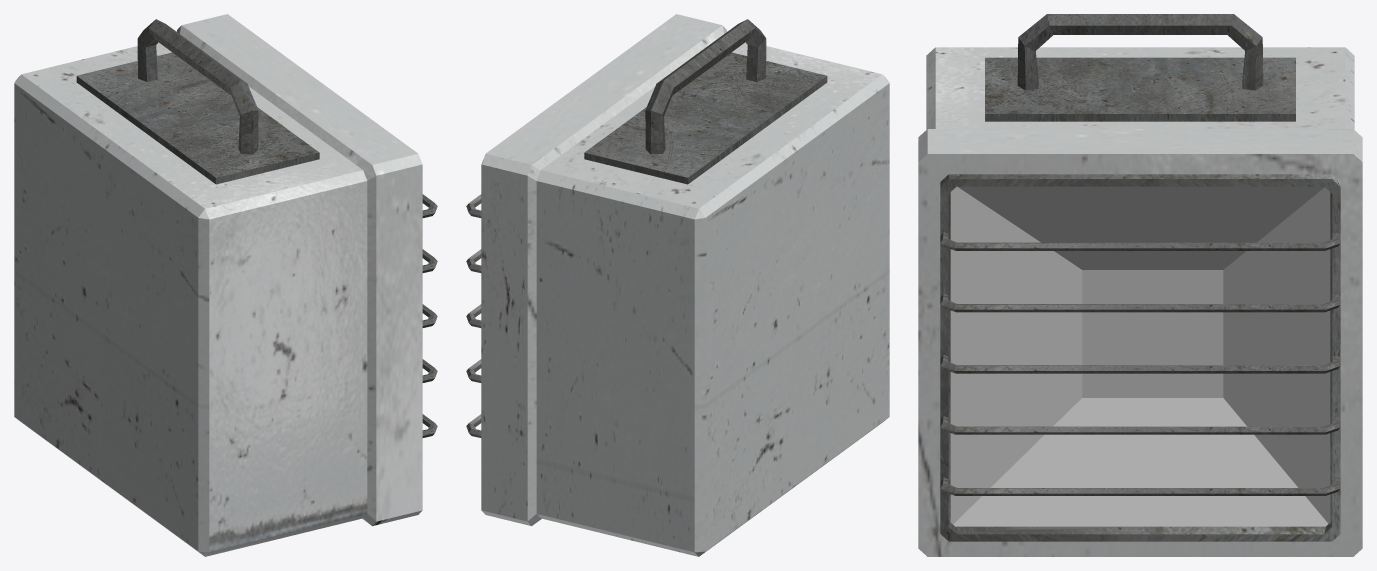
Rendered from LightBox.fbx.
3 renders of one model, left to right at view 1: azimuth 30°, elevation 25°; view 2: azimuth 150°, elevation 25°; view 3: azimuth 270°, elevation 25°, orthographic. The views are drawn at different scales.
Parts seen in each view (by area): view 1: Cube, Handle, Circle; view 2: Cube, Handle, Circle; view 3: Light, Cube, Handle, Circle, Cube.001.
Boxes of the visible parts, x1,y1,x2,y2 form: Cube: (14,14,422,556); Handle: (76,19,319,184); Circle: (422,194,437,437); Cube: (481,14,889,556); Handle: (584,19,827,184); Circle: (466,194,481,437); Light: (950,186,1330,526); Cube: (918,47,1362,556); Handle: (985,14,1295,121); Circle: (940,232,1340,495); Cube.001: (940,174,1340,541).
Bounding box in the file's own units: 144 × 236 × 200.
